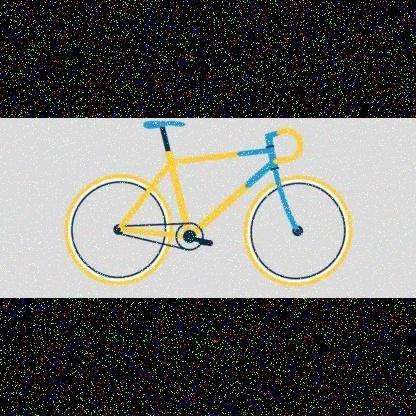Bicycle: (53, 122, 359, 297)
